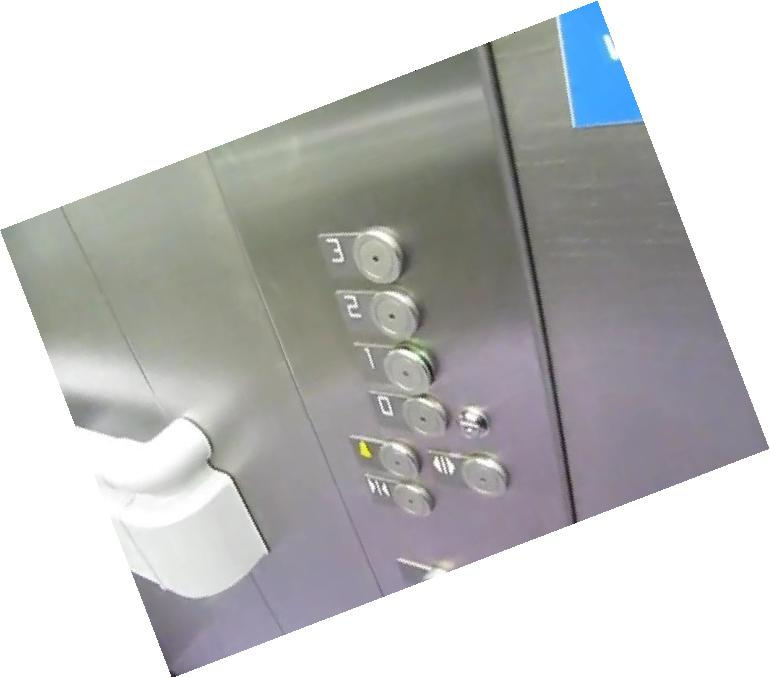0: (363, 388, 451, 440)
1: (349, 340, 438, 394)
2: (332, 285, 423, 343)
3: (313, 223, 409, 288)
alarm: (345, 433, 424, 481)
close: (360, 470, 436, 521)
open: (423, 447, 511, 499)
